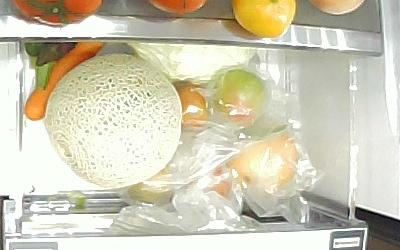cabbage: (126, 42, 257, 84)
carrot: (23, 42, 104, 120)
eggplant: (33, 41, 76, 65)
melon: (45, 53, 181, 188)
pear_vinyl: (231, 133, 298, 192)
tomato_vinyl: (215, 70, 268, 126), (171, 85, 207, 126)
zucchini: (24, 40, 55, 89)
